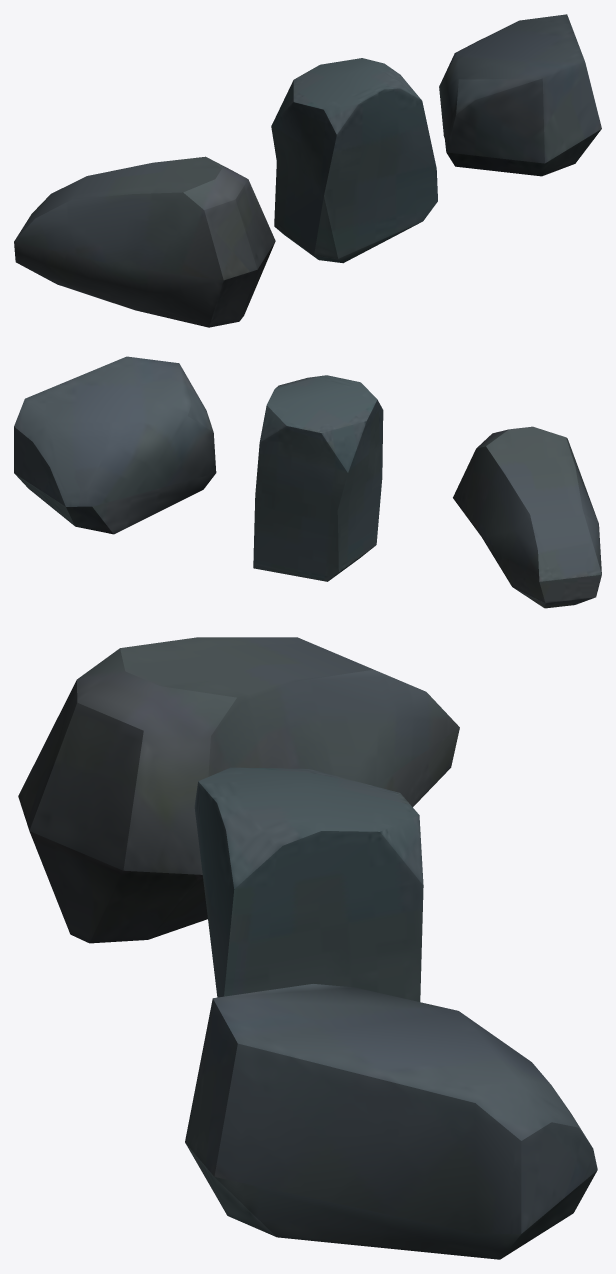
The model's file is OBJ_SmallRock_07.obj.
The picture shows the model from 3 angles, top to bottom: view 1: azimuth 30°, elevation 25°; view 2: azimuth 150°, elevation 25°; view 3: azimuth 270°, elevation 25°; orthographic projection. The views are drawn at different scales.
Parts seen in each view (by area): view 1: OBJ_SmallRock_07; view 2: OBJ_SmallRock_07; view 3: OBJ_SmallRock_07.
Boxes of the visible parts, left/top/right/bottom form: OBJ_SmallRock_07: left=14, top=14, right=601, bottom=327; OBJ_SmallRock_07: left=14, top=356, right=601, bottom=608; OBJ_SmallRock_07: left=18, top=637, right=597, bottom=1259.
Bounding box in the file's own units: 0.8255 × 0.2396 × 0.3765.
Materials: 1 (1 with a texture image).
